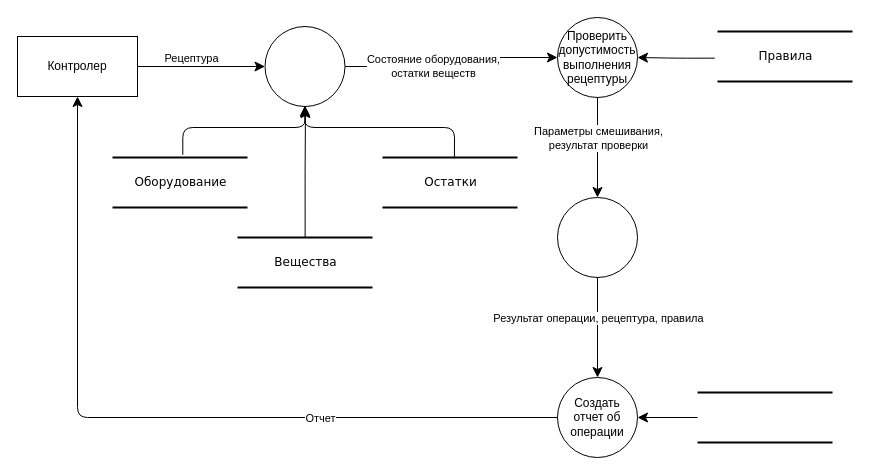
Image size: 871x475. Some labels were removed from this diagram. Here are the shapes that lost their labels. From the top down, the box of each, then its label:
(264, 26, 345, 106): Собрать компоненты рецептуры
(556, 196, 638, 278): Смешать вещества
(696, 391, 833, 443): Документы
